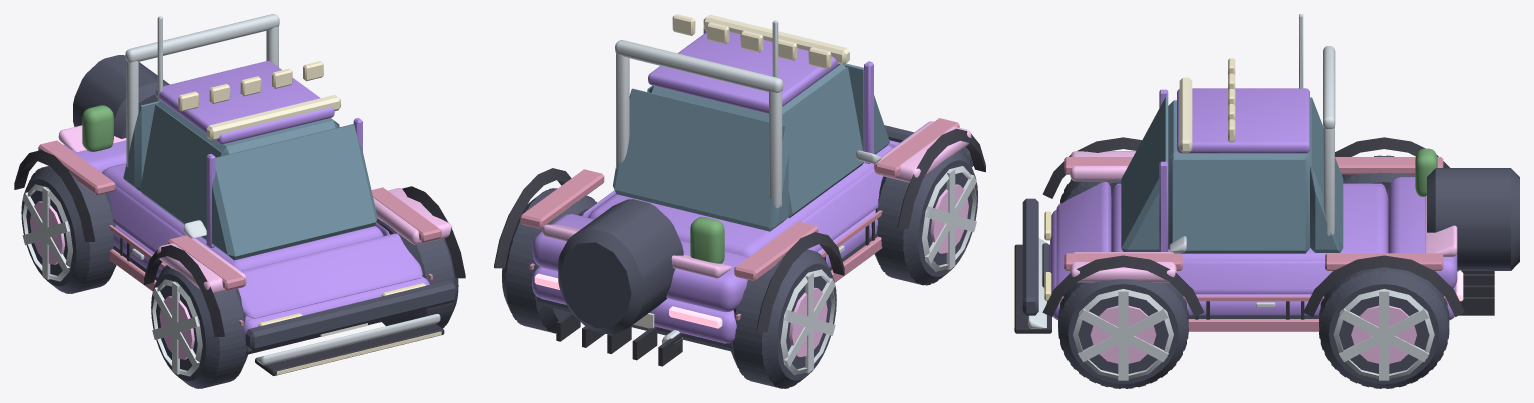
The model's file is trail_tornado.fbx.
The picture shows the model from 3 angles, left to right: view 1: azimuth 30°, elevation 25°; view 2: azimuth 150°, elevation 25°; view 3: azimuth 270°, elevation 25°; orthographic projection. The views are drawn at different scales.
Visible parts, largest first — view 1: Glass, Body, Trim2, Accent2, Trim, Wheel_RR, Wheel_FR, Metal, Accent, Accent3, Light, Wheel_FL (+3 smaller); view 2: Glass, Body, Trim2, Trim, Wheel_RR, Accent2, Accent, Wheel_FR, Metal, Wheel_RL, Accent3, Light (+4 smaller); view 3: Body, Glass, Trim2, Trim, Metal, Wheel_RL, Wheel_FL, Accent, Accent2, Accent3, Metal2, Light4 (+5 smaller).
Part boxes in pixels (x1,y1,x2,y2): Glass: [123, 101, 377, 260]; Body: [63, 60, 429, 343]; Trim2: [73, 55, 456, 354]; Accent2: [125, 14, 440, 365]; Trim: [14, 150, 465, 375]; Wheel_RR: [21, 166, 116, 293]; Wheel_FR: [151, 265, 247, 388]; Metal: [22, 184, 202, 376]; Accent: [38, 140, 441, 325]; Accent3: [58, 125, 452, 294]; Light: [178, 61, 441, 374]; Wheel_FL: [376, 218, 458, 328]; Glass: [613, 63, 889, 231]; Body: [532, 28, 899, 343]; Trim2: [536, 125, 973, 351]; Trim: [494, 128, 985, 366]; Wheel_RR: [731, 249, 836, 388]; Accent2: [615, 20, 881, 208]; Accent: [520, 118, 959, 320]; Wheel_FR: [874, 150, 977, 285]; Metal: [503, 166, 976, 375]; Wheel_RL: [502, 188, 596, 333]; Accent3: [542, 121, 971, 278]; Light: [672, 14, 831, 68]; Body: [1050, 88, 1457, 320]; Glass: [1121, 97, 1343, 253]; Trim2: [1022, 168, 1519, 318]; Trim: [1014, 137, 1494, 333]; Metal: [1073, 289, 1434, 380]; Wheel_RL: [1319, 267, 1449, 388]; Wheel_FL: [1058, 279, 1188, 388]; Accent: [1058, 157, 1447, 331]; Accent2: [1028, 14, 1335, 328]; Accent3: [1070, 151, 1457, 282]; Metal2: [1090, 305, 1416, 363]; Light4: [1179, 77, 1192, 152].
Size of the model in its own units: 3.21 by 3.39 by 5.37.
